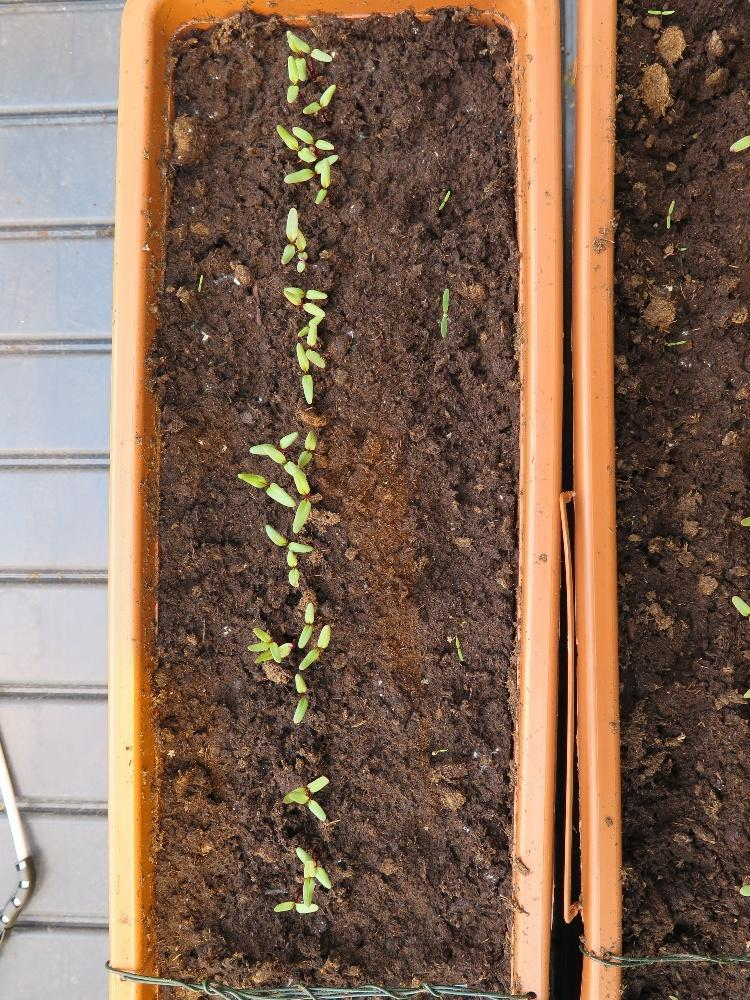crop: (299, 81, 336, 116), (290, 672, 308, 726), (296, 600, 315, 648)
weed: (437, 283, 451, 339), (434, 188, 452, 212), (663, 196, 675, 229), (645, 6, 676, 17), (453, 635, 464, 663)
